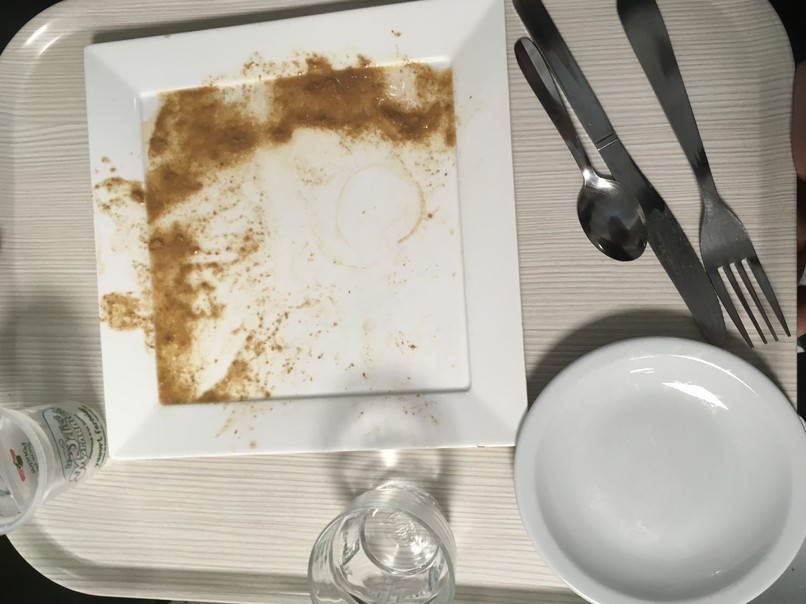cup: (307, 471, 466, 604)
cutlery: (518, 1, 805, 355), (512, 30, 650, 265)
trash: (1, 394, 101, 532)
